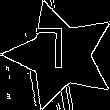L_S: (44, 30, 77, 81)
